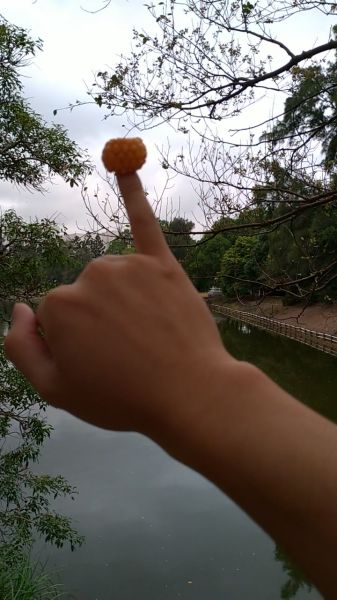eggs: (101, 137, 146, 174)
